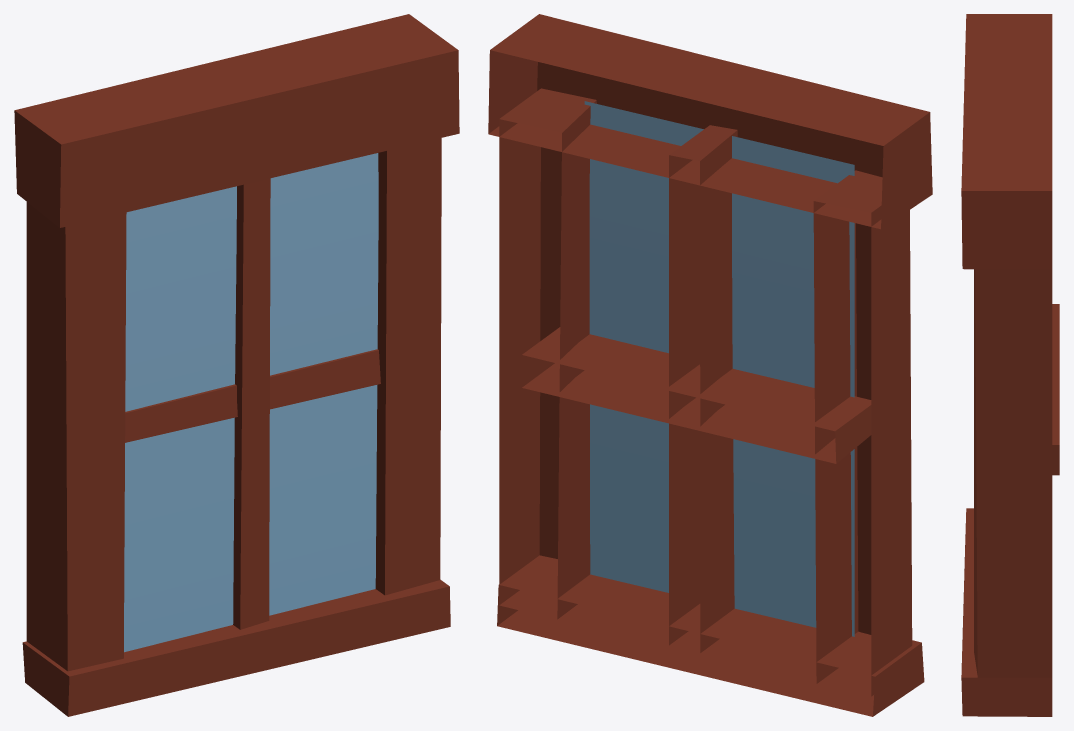
Rendered from House_Window_B.fbx.
3 renders of one model, left to right at view 1: azimuth 30°, elevation 25°; view 2: azimuth 150°, elevation 25°; view 3: azimuth 270°, elevation 25°, orthographic. The views are drawn at different scales.
Visible parts, largest first — view 1: House_Window_B; view 2: House_Window_B; view 3: House_Window_B.
Boxes of the visible parts, <box> form: House_Window_B: <box>14,14,459,716</box>; House_Window_B: <box>488,14,932,716</box>; House_Window_B: <box>961,14,1059,716</box>.
Size of the model in its own units: 90.31 by 125 by 20.98.
